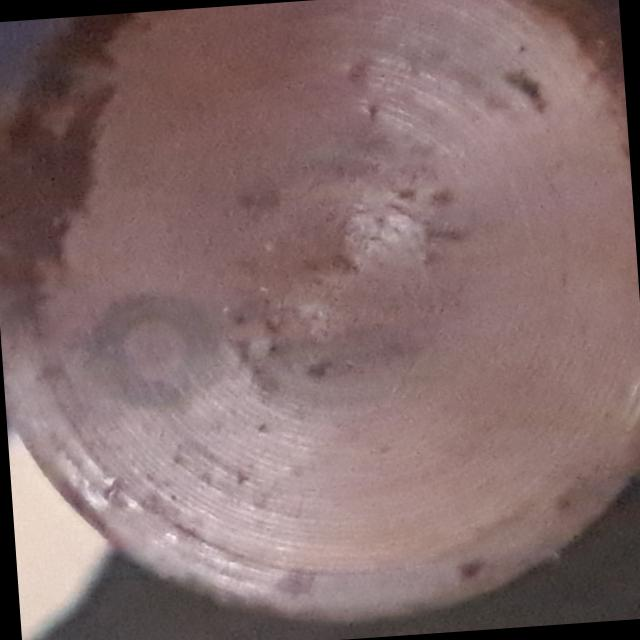defect: (80, 294, 239, 419)
planson: (0, 0, 640, 617)
